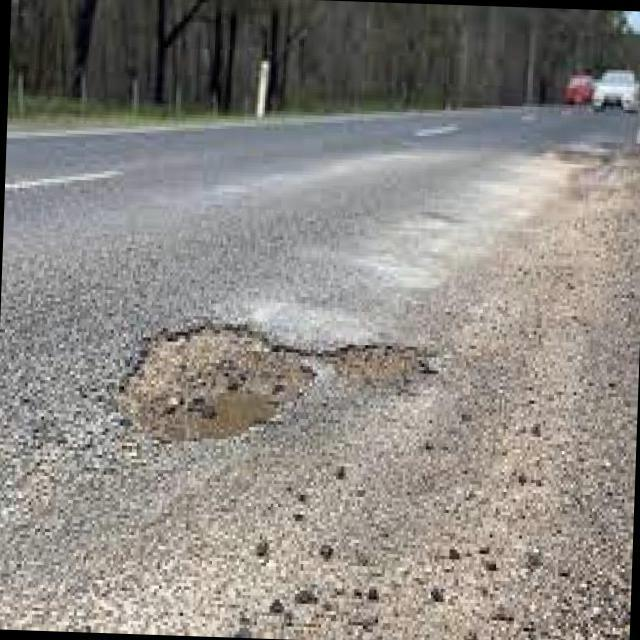Pothole: (115, 325, 316, 443)
